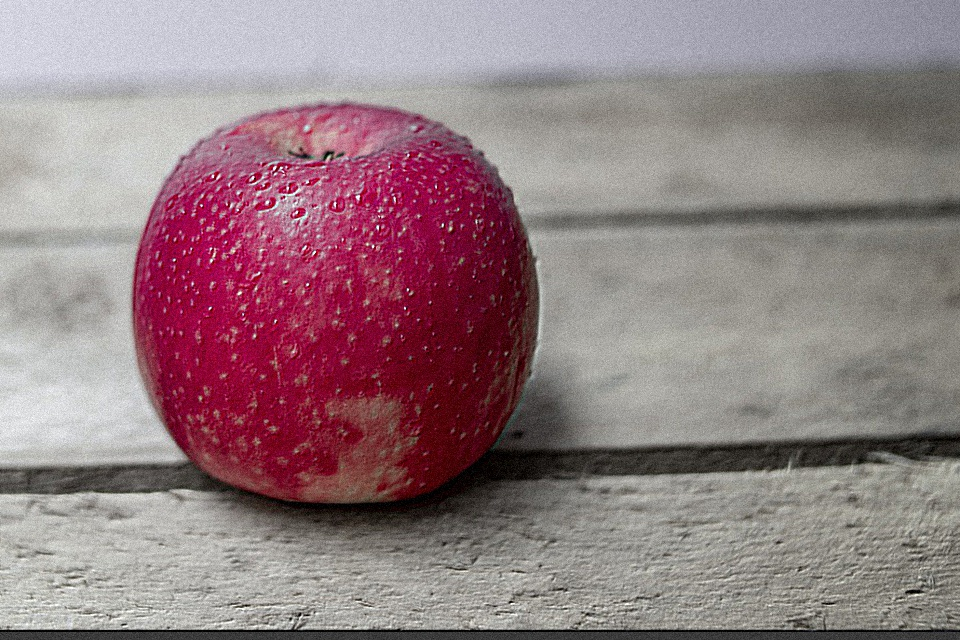apple: (85, 84, 571, 519)
